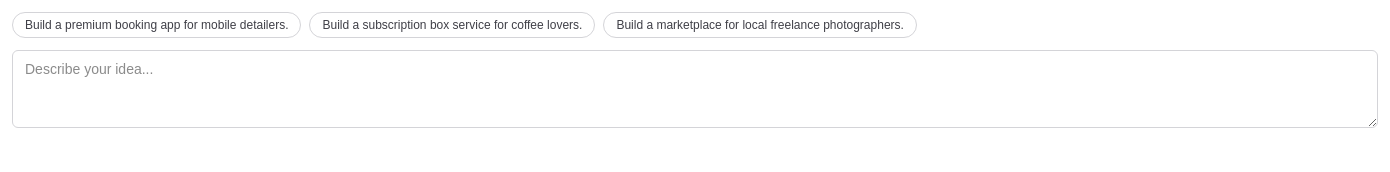
Test case: IdeaTextarea (Example App Ideas picker) › populates the textarea on a real mouse click
Click the button "Build a premium booking app for mobile detailers.".
click(157, 25)  # box left=12, top=12, right=302, bottom=38
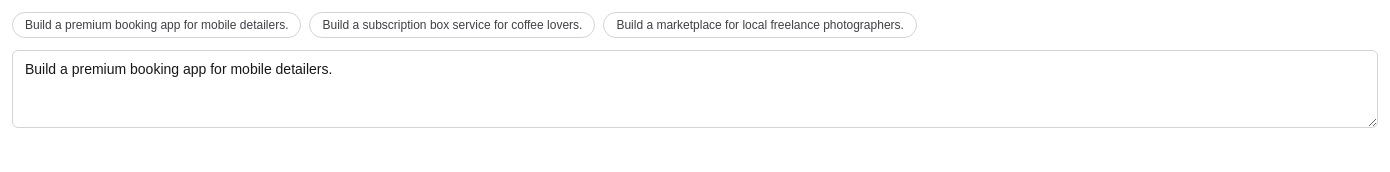
Result: the text box holds "Build a premium booking app for mobile detailers." at left=12, top=50, right=1378, bottom=128
